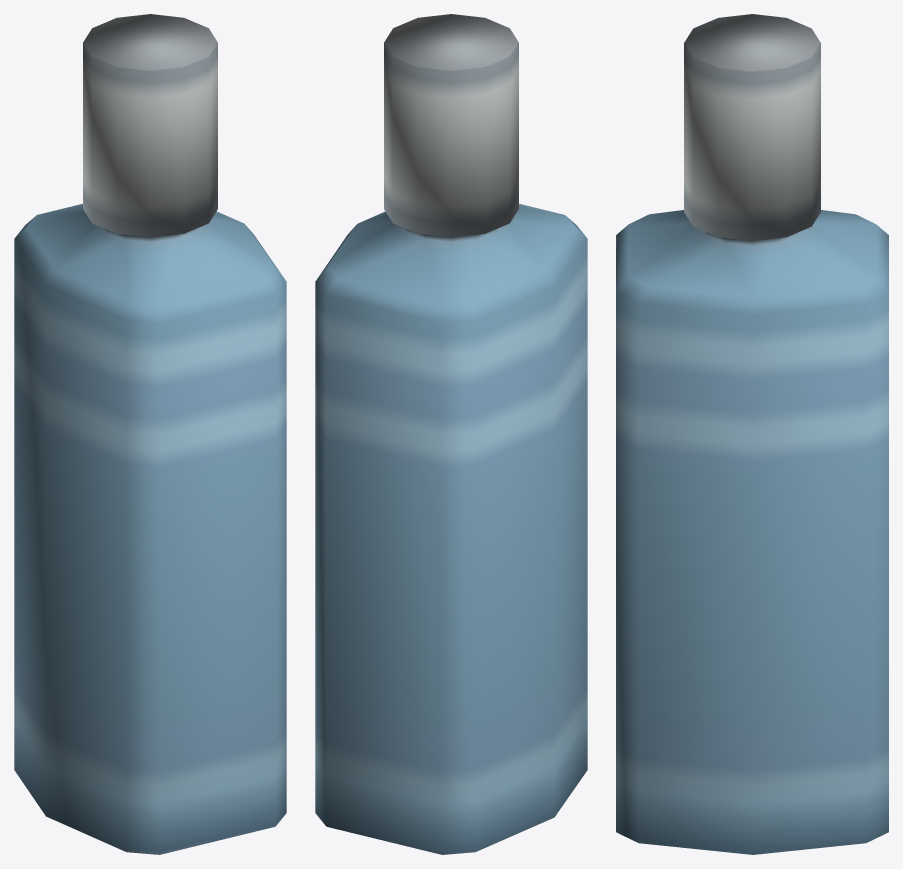
The model's file is perfume_bottle02_lod0.glb.
3 renders of one model, left to right at view 1: azimuth 30°, elevation 25°; view 2: azimuth 150°, elevation 25°; view 3: azimuth 270°, elevation 25°, orthographic.
Visible parts, largest first — view 1: surf0; view 2: surf0; view 3: surf0.
Part boxes in pixels (left/top/right/bottom): surf0: left=14, top=14, right=286, bottom=854; surf0: left=315, top=14, right=587, bottom=854; surf0: left=616, top=14, right=888, bottom=854.
Bounding box in the file's own units: 1.92 × 6.64 × 2.16.
